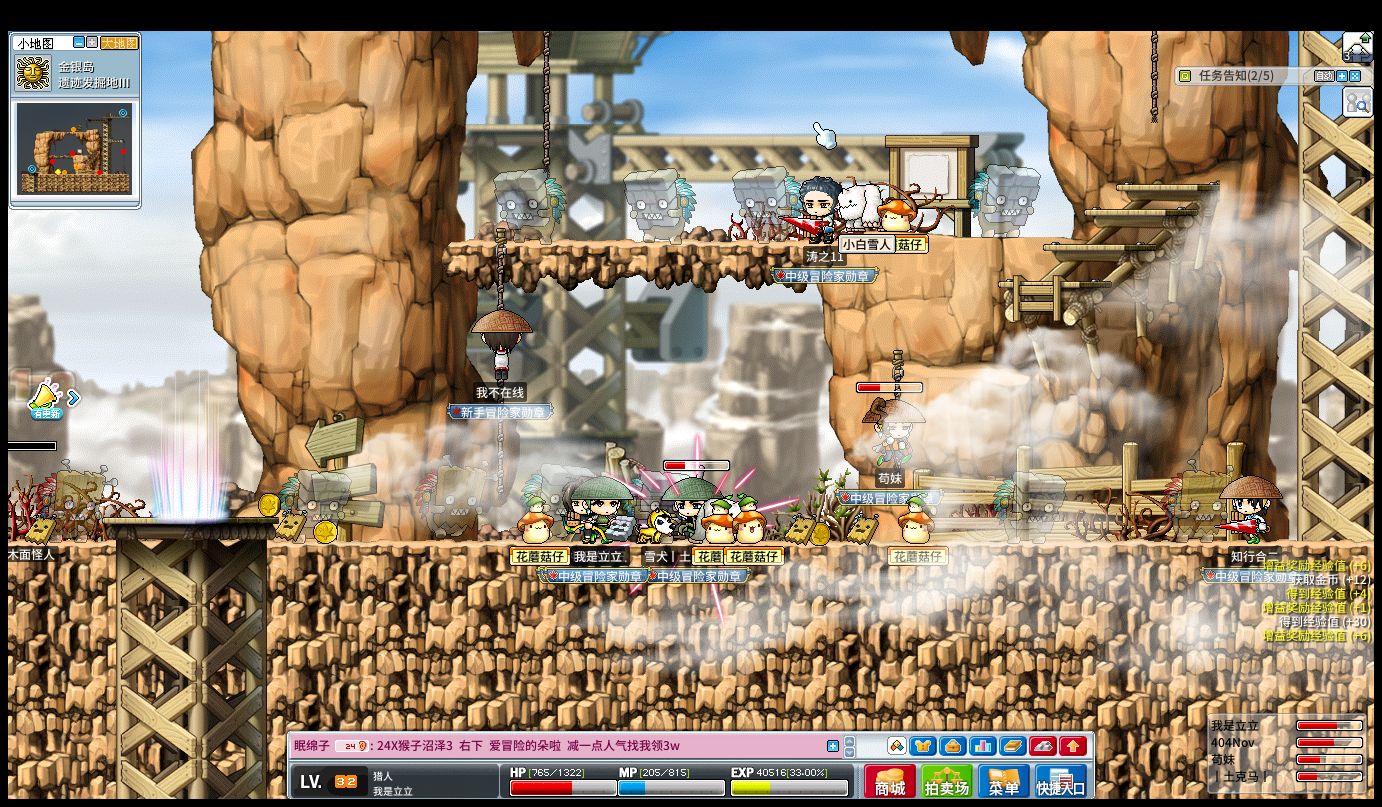floor: (266, 538, 1373, 549), (450, 236, 829, 250), (898, 364, 1032, 385), (106, 515, 279, 525), (937, 233, 1081, 244), (8, 539, 115, 550), (996, 279, 1111, 288), (1080, 207, 1192, 216), (1041, 243, 1159, 251), (1115, 184, 1218, 192), (1114, 183, 1218, 190)
monster: (413, 455, 487, 539), (1164, 460, 1239, 542), (991, 469, 1069, 543), (36, 463, 117, 533), (622, 167, 696, 242), (491, 167, 565, 242), (277, 468, 351, 543), (968, 164, 1041, 237), (729, 166, 800, 241)
rope: (542, 30, 550, 174), (492, 230, 506, 308), (1148, 30, 1157, 124)
